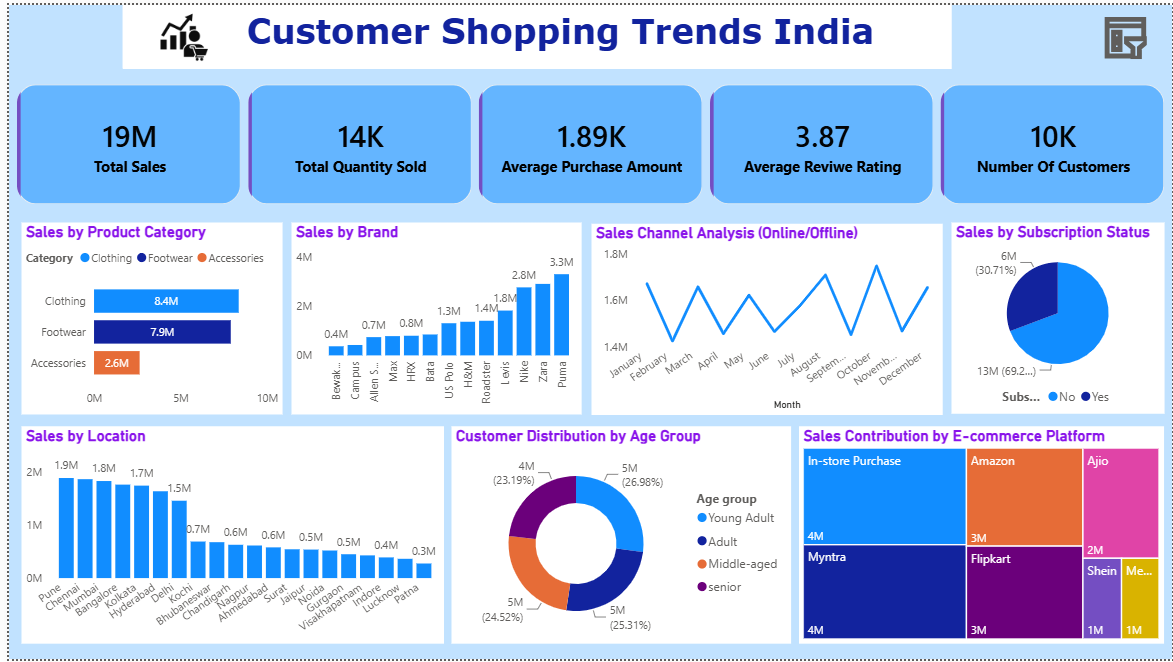

The page's visual inventory and layout, read from the dashboard file:
{"tool":"powerbi","page":{"name":"Page 1","canvas":[1280,720],"ordinal":0},"visuals":[{"type":"textbox","box":[125.4,0,911.9,70.1],"z":0},{"type":"image","box":[125.4,0,135.6,70.1],"z":1000},{"type":"barChart","title":"Sales by Product Category","fields":{"Series":["project cleaned_dataset (2).Category"],"Category":["project cleaned_dataset (2).Category"],"Y":["Sum(project cleaned_dataset (2).Purchase Amount (â‚¹))"]},"box":[13.9,239.2,287.3,211.4],"z":2000},{"type":"clusteredColumnChart","title":"Sales by Brand","fields":{"Y":["Sum(project cleaned_dataset (2).Purchase Amount (â‚¹))"],"Category":["project cleaned_dataset.Brand"]},"box":[310.1,239.2,319,211.4],"z":3000},{"type":"columnChart","title":"Sales by Location","fields":{"Category":["project cleaned_dataset (2).Location"],"Y":["Sum(project cleaned_dataset (2).Purchase Amount (â‚¹))"]},"box":[13.9,463.3,464.6,239.2],"z":4000},{"type":"donutChart","title":"Customer Distribution by Age Group","fields":{"Y":["Sum(project cleaned_dataset (2).Purchase Amount (â‚¹))"],"Category":["project cleaned_dataset (2).Age group"]},"box":[487.3,463.3,373.4,239.2],"z":5000},{"type":"treemap","title":"Sales Contribution by E-commerce Platform","fields":{"Group":["project cleaned_dataset (2).Online Store"],"Values":["Sum(project cleaned_dataset (2).Purchase Amount (â‚¹))"]},"box":[869.6,463.3,401.3,239.2],"z":6000},{"type":"lineChart","title":"Sales Channel Analysis (Online/Offline)","fields":{"Y":["Sum(project cleaned_dataset (2).Purchase Amount (â‚¹))"],"Category":["project cleaned_dataset.Purchase Date.Variation.Date Hierarchy.Month"]},"box":[640.5,240.5,386.1,210.1],"z":7000},{"type":"cardVisual","fields":{"Data":["project cleaned_dataset.Total Sales","project cleaned_dataset.Total Quantity Sold","project cleaned_dataset.Average Purchase Amount","project cleaned_dataset.Average Reviwe Rating","project cleaned_dataset.Number Of Customers"]},"box":[0,78.7,1280.2,150.2],"z":8000},{"type":"pieChart","title":"Sales by Subscription Status","fields":{"Category":["project cleaned_dataset (2).Subscription Status"],"Y":["Sum(project cleaned_dataset (2).Purchase Amount (â‚¹))"]},"box":[1036.7,239.2,234.2,210.1],"z":9000},{"type":"actionButton","box":[1200.4,7.7,70.8,55.4],"z":10000}]}

Visuals, with their boxes in screenshot pixels (x1, y1, x2, y2), scaled from the page's 1280x720 canvas onto the 1173x662 screenshot:
textbox: crop(115, 0, 951, 64)
image: crop(115, 0, 239, 64)
"Sales by Product Category" barChart: crop(13, 220, 276, 414)
"Sales by Brand" clusteredColumnChart: crop(284, 220, 577, 414)
"Sales by Location" columnChart: crop(13, 426, 439, 646)
"Customer Distribution by Age Group" donutChart: crop(447, 426, 789, 646)
"Sales Contribution by E-commerce Platform" treemap: crop(797, 426, 1165, 646)
"Sales Channel Analysis (Online/Offline)" lineChart: crop(587, 221, 941, 414)
cardVisual - project cleaned_dataset.Total Sales x project cleaned_dataset.Total Quantity Sold: crop(0, 72, 1172, 210)
"Sales by Subscription Status" pieChart: crop(950, 220, 1165, 413)
actionButton: crop(1100, 7, 1165, 58)
